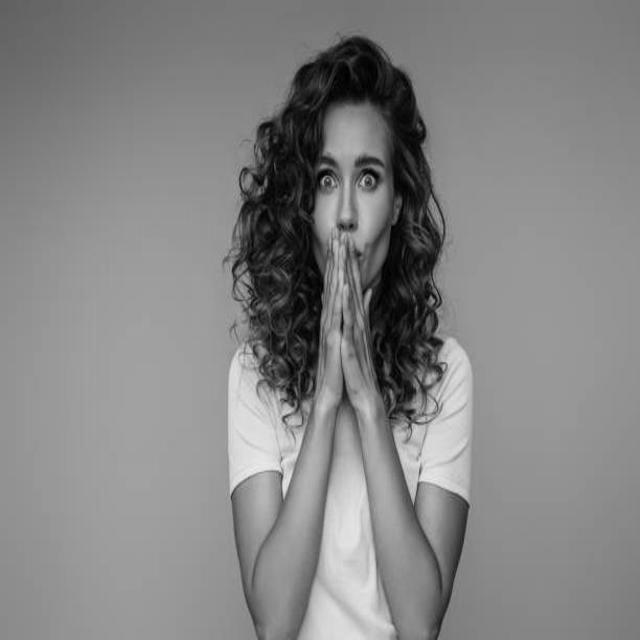Surprised: (313, 103, 388, 297)
